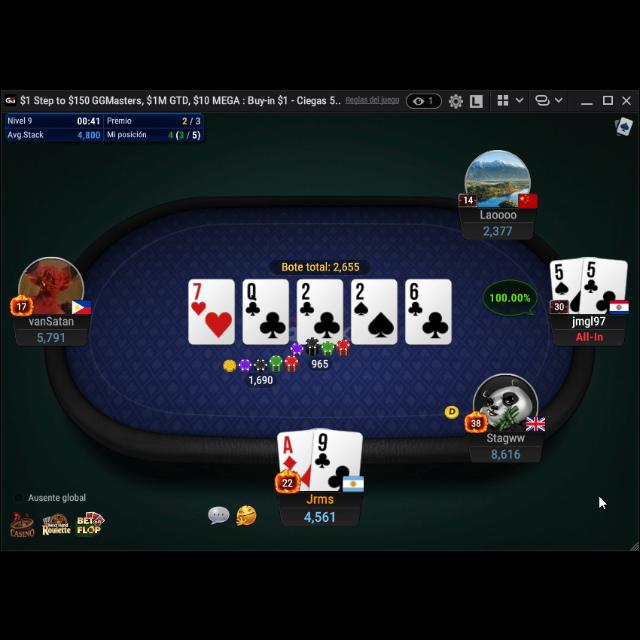2c: (298, 278, 316, 316)
2s: (352, 279, 370, 315)
5c: (582, 257, 600, 293)
5s: (554, 260, 570, 294)
6c: (407, 278, 425, 316)
7h: (190, 278, 207, 316)
9c: (314, 428, 332, 468)
Ad: (282, 432, 298, 470)
Qc: (244, 279, 262, 315)
all_in_symbol: (576, 327, 604, 339)
bet_text: (248, 371, 274, 384), (310, 354, 330, 366)
dealer: (444, 401, 461, 417), (223, 355, 237, 369)
pot_text: (281, 260, 361, 270)
stack_text: (304, 505, 336, 521), (490, 444, 522, 458), (483, 221, 513, 235), (36, 328, 64, 342)
